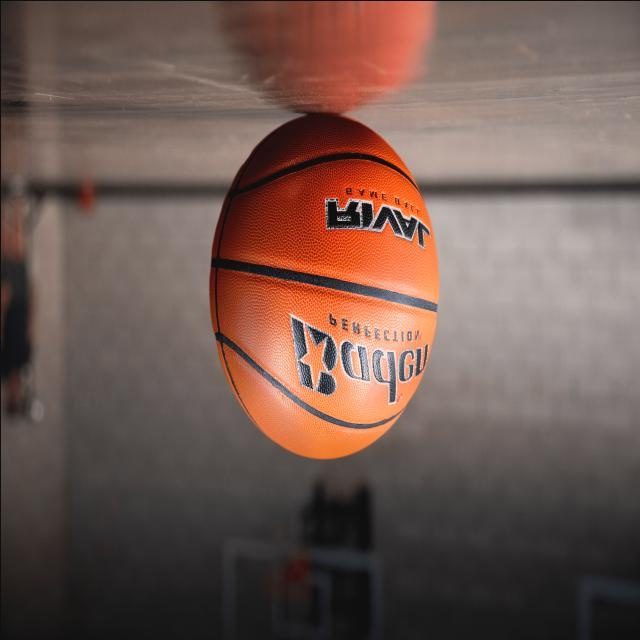agrume: (208, 96, 468, 473)
